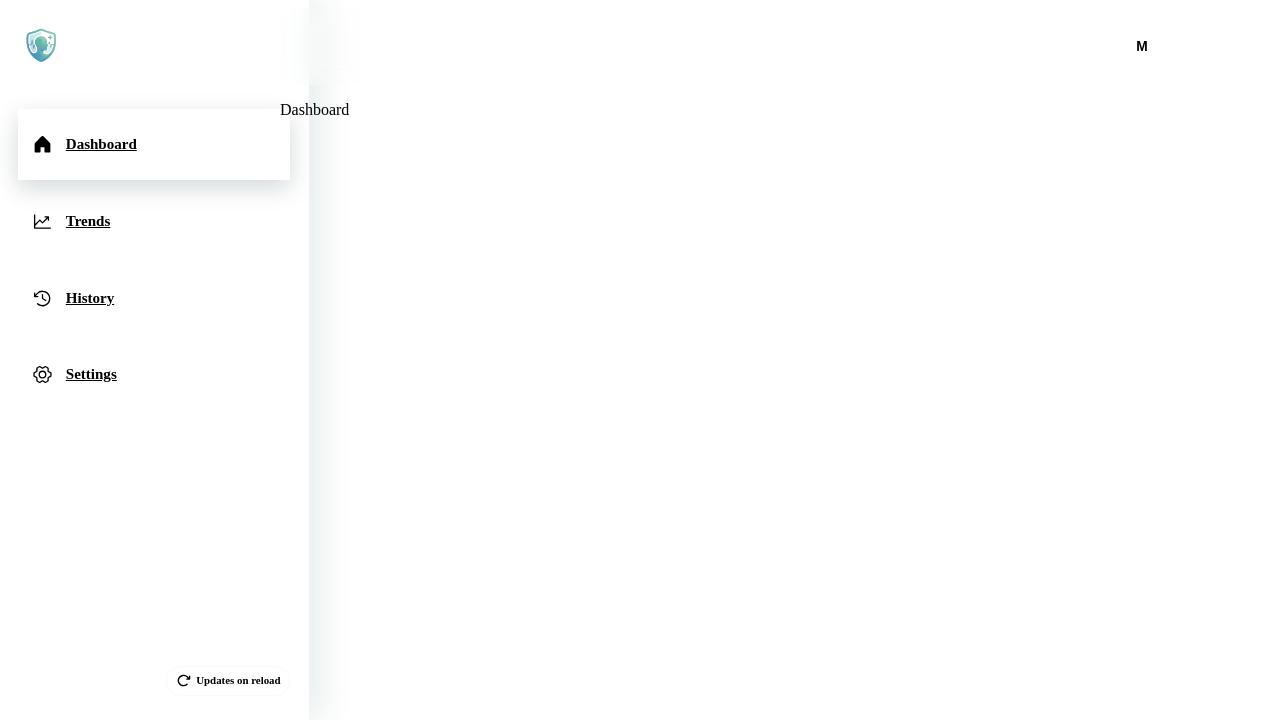
Test: protected account menu › opens the profile dropdown with a working settings destination
This screenshot has width=1280, height=720.
Click the button named "Account menu for Maya Khan" at (1142,46), box [1122,26,1162,66]
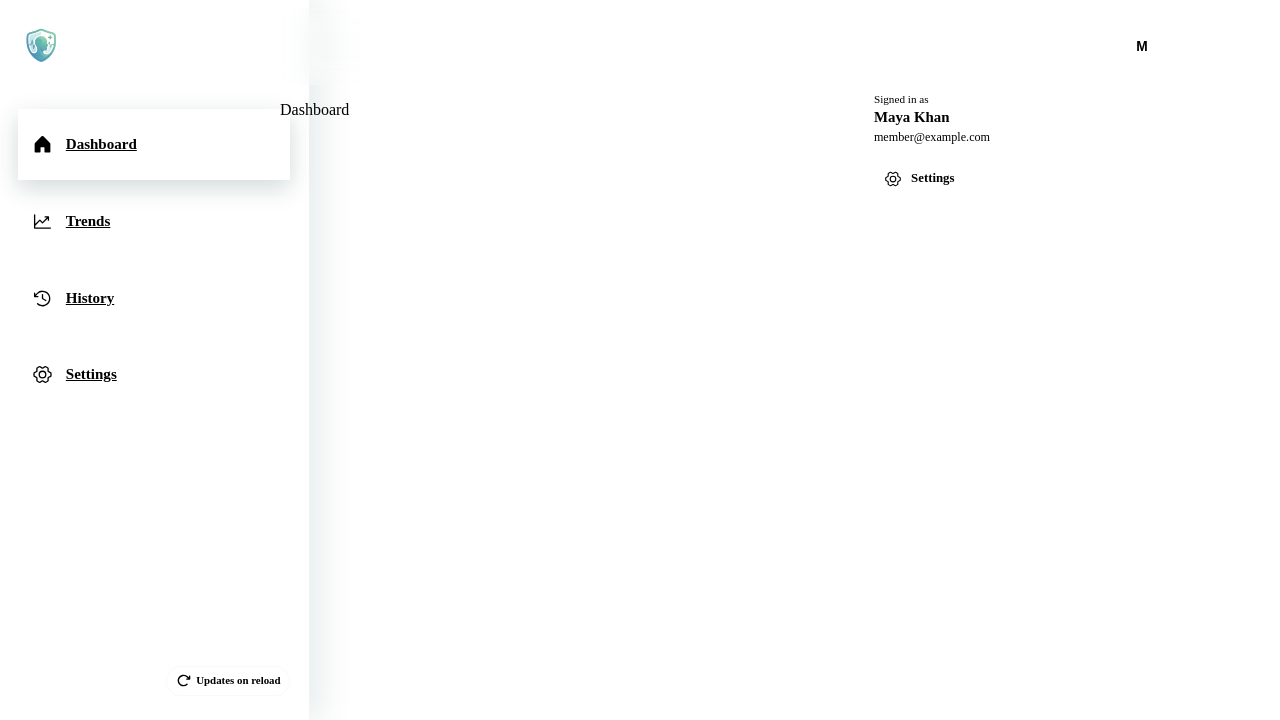
Expected: the text "Maya Khan" is shown, [874,109,950,125]
Expected: the text "member@example.com" is shown, [874,130,990,144]
